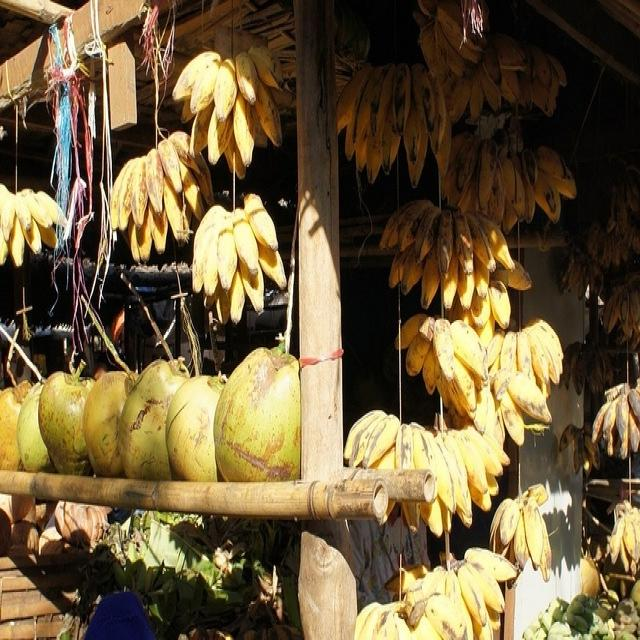coconut: (215, 347, 301, 482), (117, 358, 189, 482), (166, 374, 226, 481), (38, 366, 96, 475), (82, 369, 134, 477), (16, 380, 54, 474), (0, 383, 31, 471)
